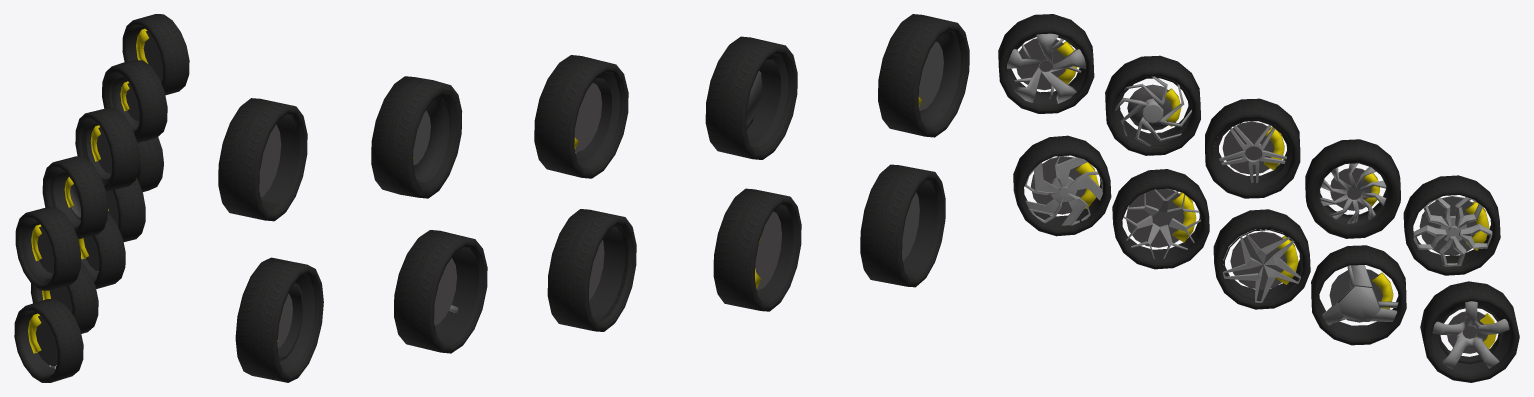
The model's file is car.glb.
3 views of the same model, side by side, from view 1: azimuth 30°, elevation 25°; view 2: azimuth 150°, elevation 25°; view 3: azimuth 270°, elevation 25° (orthographic). The views are drawn at different scales.
Visible parts, largest first — view 1: wheel_6, Cylinder.001_Rubber_0, wheel_3, wheel_2, wheel_4, wheel_5, wheel_8, wheel_7, wheel_9, wheel_10; view 2: wheel_3, wheel_9, wheel_2, Cylinder.001_Rubber_0, wheel_4, wheel_5, wheel_10, wheel_8, wheel_7, wheel_6; view 3: Cylinder.001_Rubber_0, wheel_10, wheel_3, wheel_6, wheel_7, wheel_5, wheel_8, wheel_4, wheel_9, wheel_2.
Boxes of the visible parts, box(x1,y1,x2,y2) form: wheel_6: box(14, 299, 83, 382); Cylinder.001_Rubber_0: box(15, 207, 80, 290); wheel_3: box(75, 107, 139, 191); wheel_2: box(42, 156, 107, 239); wheel_4: box(102, 60, 167, 142); wheel_5: box(122, 14, 189, 95); wheel_8: box(78, 212, 125, 288); wheel_7: box(30, 261, 98, 333); wheel_9: box(106, 177, 145, 241); wheel_10: box(136, 137, 163, 191); wheel_3: box(534, 55, 628, 178); wheel_9: box(394, 230, 487, 353); wheel_2: box(705, 36, 797, 159); Cylinder.001_Rubber_0: box(878, 14, 969, 137); wheel_4: box(371, 76, 462, 198); wheel_5: box(218, 98, 307, 221); wheel_10: box(235, 257, 323, 382); wheel_8: box(547, 209, 636, 331); wheel_7: box(713, 188, 801, 311); wheel_6: box(860, 164, 945, 287); Cylinder.001_Rubber_0: box(998, 14, 1094, 113); wheel_10: box(1420, 281, 1519, 382); wheel_3: box(1205, 98, 1300, 198); wheel_6: box(1013, 135, 1111, 236); wheel_7: box(1112, 169, 1209, 269); wheel_5: box(1403, 175, 1500, 275); wheel_8: box(1213, 209, 1310, 309); wheel_4: box(1305, 139, 1400, 238); wheel_9: box(1311, 245, 1406, 345); wheel_2: box(1105, 55, 1200, 155).
Bounding box in the file's own units: 1.41 × 0.7575 × 1.75.
5 materials, 1 textured.
